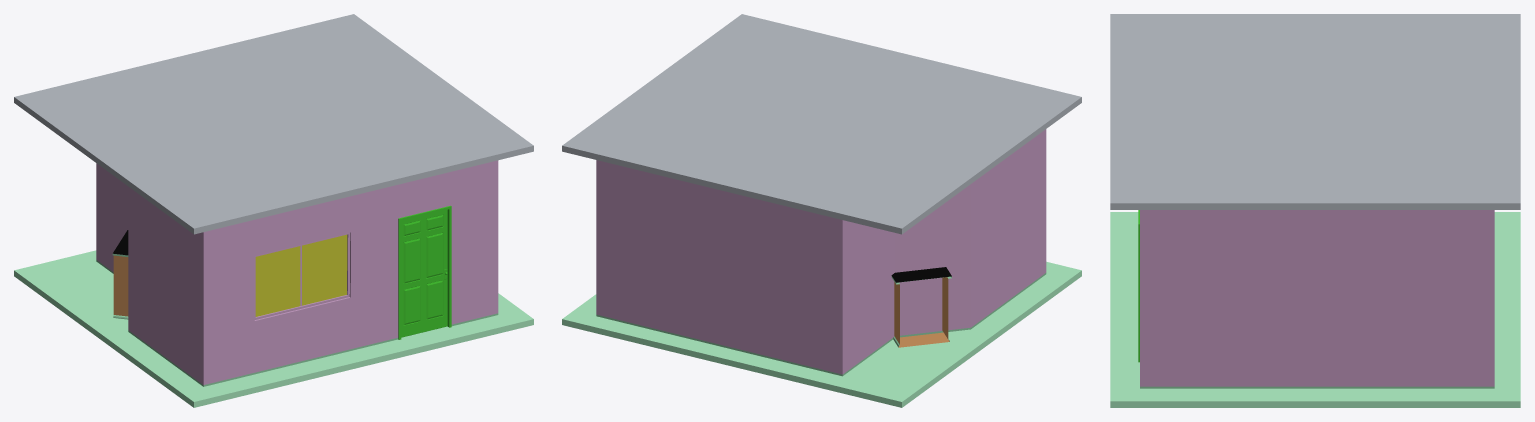
File: FloorPlan22_physics.fbx
3 views of the same model, side by side, from view 1: azimuth 30°, elevation 25°; view 2: azimuth 150°, elevation 25°; view 3: azimuth 270°, elevation 25° (orthographic). The views are drawn at different scales.
Visible parts, largest first — view 1: Ceiling, StandardWallSize, Floor, WindowPane, StandardDoor1, StandardDoorFrame1, StandardIslandHeight2, Window; view 2: StandardWallSize, Ceiling, Floor, StandardIslandHeight2, PS_22_Countertop_3; view 3: Ceiling, StandardWallSize, Floor.
Boxes of the visible parts, bbox=[...] form: Ceiling: bbox=[14, 14, 533, 234]; StandardWallSize: bbox=[96, 160, 498, 386]; Floor: bbox=[14, 250, 533, 407]; WindowPane: bbox=[255, 234, 347, 316]; StandardDoor1: bbox=[401, 209, 447, 337]; StandardDoorFrame1: bbox=[398, 205, 451, 339]; StandardIslandHeight2: bbox=[112, 253, 128, 319]; Window: bbox=[254, 232, 350, 319]; StandardWallSize: bbox=[596, 129, 1046, 376]; Ceiling: bbox=[562, 14, 1081, 234]; Floor: bbox=[562, 261, 1081, 407]; StandardIslandHeight2: bbox=[891, 276, 951, 347]; PS_22_Countertop_3: bbox=[891, 267, 951, 282]; Ceiling: bbox=[1110, 14, 1520, 209]; StandardWallSize: bbox=[1140, 210, 1494, 388]; Floor: bbox=[1110, 212, 1520, 407].
Size of the model in its own units: 600 by 302 by 550.
